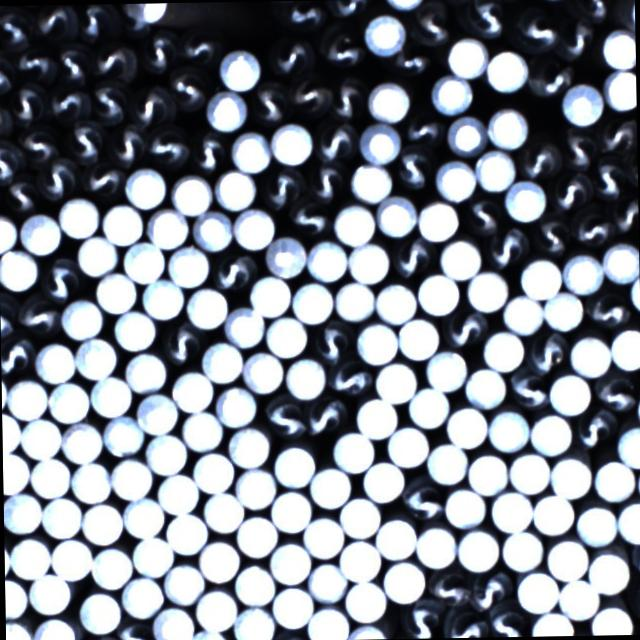tool: (366, 78, 411, 122), (163, 509, 207, 554), (362, 9, 404, 56), (264, 313, 308, 357), (424, 348, 468, 392), (416, 270, 460, 314), (456, 526, 500, 570), (530, 490, 574, 534), (433, 155, 477, 199), (396, 315, 439, 360), (485, 104, 528, 149), (228, 126, 270, 172), (588, 548, 630, 594), (567, 333, 611, 376), (18, 212, 61, 256), (331, 200, 374, 244), (415, 198, 458, 242), (556, 576, 600, 619), (217, 46, 260, 90), (262, 234, 306, 277), (184, 284, 227, 328), (80, 499, 122, 544), (233, 464, 274, 510), (145, 205, 188, 248), (473, 147, 516, 190), (481, 328, 524, 371), (515, 568, 558, 611), (170, 368, 213, 411), (548, 370, 590, 414), (488, 407, 530, 451), (355, 320, 397, 364), (464, 364, 506, 408), (306, 238, 348, 282), (488, 488, 530, 532), (414, 524, 456, 568), (374, 193, 416, 237), (122, 238, 164, 282), (353, 394, 397, 436), (574, 500, 616, 544), (247, 274, 291, 316), (26, 572, 70, 614), (166, 244, 210, 286), (428, 73, 472, 115), (74, 334, 116, 378), (270, 584, 312, 628), (270, 120, 312, 164), (544, 536, 588, 578), (560, 80, 602, 124), (135, 392, 177, 436), (111, 309, 156, 350), (507, 450, 549, 493), (443, 484, 486, 526), (464, 268, 507, 310), (332, 428, 374, 471), (530, 411, 572, 454), (284, 356, 326, 399), (444, 404, 486, 447), (233, 207, 275, 250), (374, 358, 416, 401), (309, 464, 352, 506), (101, 201, 143, 244), (170, 172, 212, 215), (445, 35, 487, 78), (56, 195, 98, 238), (182, 408, 224, 451), (466, 448, 507, 492), (374, 278, 415, 322), (213, 166, 254, 210), (360, 461, 404, 502), (193, 586, 234, 630), (268, 488, 309, 532), (201, 488, 242, 532), (8, 536, 50, 578), (332, 279, 374, 321), (200, 339, 242, 381), (78, 588, 120, 630), (191, 210, 233, 252), (242, 350, 284, 392), (290, 280, 332, 322), (32, 340, 74, 382), (519, 254, 561, 296), (141, 276, 183, 318), (348, 240, 390, 282), (132, 534, 174, 576), (123, 166, 165, 208), (110, 458, 152, 500), (58, 296, 100, 338), (550, 456, 592, 498), (231, 564, 273, 606), (226, 425, 268, 467), (122, 496, 164, 538), (90, 374, 131, 417), (30, 454, 71, 497), (339, 494, 380, 537), (486, 49, 527, 92), (205, 87, 246, 130), (215, 384, 258, 425), (89, 545, 130, 588), (387, 423, 428, 466), (501, 527, 542, 570), (146, 432, 187, 475), (273, 445, 316, 486), (122, 574, 162, 618), (594, 458, 634, 502), (124, 350, 168, 390), (600, 240, 640, 284), (48, 380, 89, 422), (93, 271, 135, 312), (75, 234, 116, 276), (40, 494, 81, 536), (425, 442, 466, 484), (408, 386, 449, 428), (502, 180, 544, 221), (384, 559, 426, 600), (6, 378, 47, 420), (342, 580, 384, 621), (266, 543, 308, 584), (161, 563, 202, 605), (348, 160, 391, 200), (562, 250, 602, 293), (102, 414, 142, 457), (223, 306, 264, 347), (358, 121, 399, 162), (51, 537, 92, 578), (542, 288, 582, 330), (440, 236, 480, 278), (153, 473, 195, 513), (376, 516, 416, 558), (196, 540, 238, 580), (190, 452, 232, 492), (305, 562, 345, 604), (235, 511, 274, 554), (20, 417, 60, 458), (446, 113, 486, 154), (502, 293, 542, 334), (60, 420, 100, 460), (70, 460, 110, 500), (3, 492, 41, 534), (304, 514, 342, 556), (0, 248, 37, 291), (600, 26, 636, 70), (338, 541, 378, 580), (152, 604, 194, 640), (306, 605, 348, 640), (604, 67, 636, 111), (233, 604, 272, 640), (610, 326, 640, 369), (590, 606, 631, 636), (2, 454, 30, 496), (532, 608, 574, 636), (616, 498, 640, 541), (615, 424, 640, 465), (34, 616, 75, 640), (124, 2, 168, 24), (5, 576, 28, 616), (2, 412, 20, 454), (0, 212, 16, 253)
tool_b: (208, 251, 260, 296), (400, 474, 448, 522), (16, 290, 62, 340), (434, 308, 488, 348), (512, 6, 558, 52), (155, 325, 205, 366), (148, 124, 192, 170), (504, 366, 550, 410), (590, 370, 638, 412), (51, 41, 92, 90), (104, 122, 148, 167), (40, 254, 82, 301), (306, 322, 353, 364), (130, 82, 172, 128), (319, 28, 366, 69), (314, 122, 358, 165), (264, 397, 306, 442), (90, 40, 135, 82), (523, 332, 568, 374), (65, 120, 106, 166), (388, 237, 432, 279), (526, 60, 572, 100), (558, 14, 596, 62), (8, 81, 46, 128), (80, 162, 127, 200), (36, 157, 77, 200), (140, 28, 178, 74), (44, 84, 90, 122), (328, 360, 374, 398), (582, 292, 630, 328), (486, 227, 528, 268), (259, 166, 301, 207), (305, 162, 346, 204), (78, 3, 122, 42), (328, 78, 366, 123), (13, 42, 55, 82), (88, 82, 128, 124), (576, 406, 618, 446), (426, 570, 470, 608), (590, 156, 628, 200), (462, 193, 502, 234), (550, 170, 590, 211), (412, 5, 452, 46), (32, 4, 76, 41), (284, 200, 328, 237), (269, 40, 313, 77), (400, 599, 440, 639), (472, 572, 512, 612), (516, 140, 556, 180), (467, 0, 507, 40), (307, 398, 345, 440), (168, 67, 205, 110), (395, 147, 429, 193), (560, 128, 598, 169), (250, 82, 286, 125), (532, 214, 570, 254), (0, 6, 33, 52), (482, 604, 526, 638), (571, 208, 611, 245), (22, 128, 59, 166), (174, 30, 213, 66), (598, 118, 638, 152), (282, 0, 321, 34), (402, 112, 443, 144), (290, 80, 328, 114), (442, 608, 484, 638), (390, 48, 430, 79), (5, 178, 38, 215), (611, 198, 639, 238), (0, 137, 21, 183), (117, 616, 157, 640), (324, 0, 374, 16), (0, 50, 15, 95)
